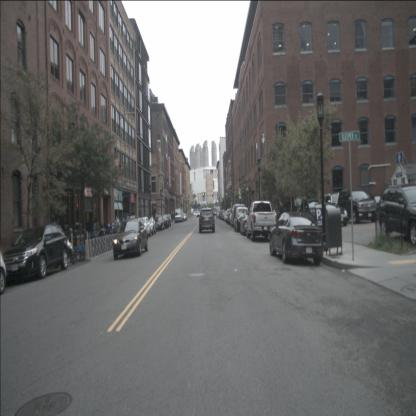human-pedestrian-adult: (278, 198, 285, 232), (115, 216, 120, 236)
vehicle-car: (3, 222, 69, 280), (270, 212, 323, 265), (378, 186, 416, 245), (113, 218, 149, 260), (337, 190, 378, 223), (319, 202, 349, 226), (299, 198, 324, 221), (284, 196, 309, 218), (322, 193, 344, 216), (240, 211, 260, 236), (198, 208, 215, 233), (134, 217, 151, 239), (230, 204, 246, 227), (233, 212, 251, 232), (236, 207, 248, 229), (143, 218, 157, 236), (159, 214, 170, 229), (154, 216, 164, 230)
vehicle-motorcycle: (61, 236, 77, 264)
vehicle-truck: (246, 200, 278, 240), (175, 208, 183, 223)
